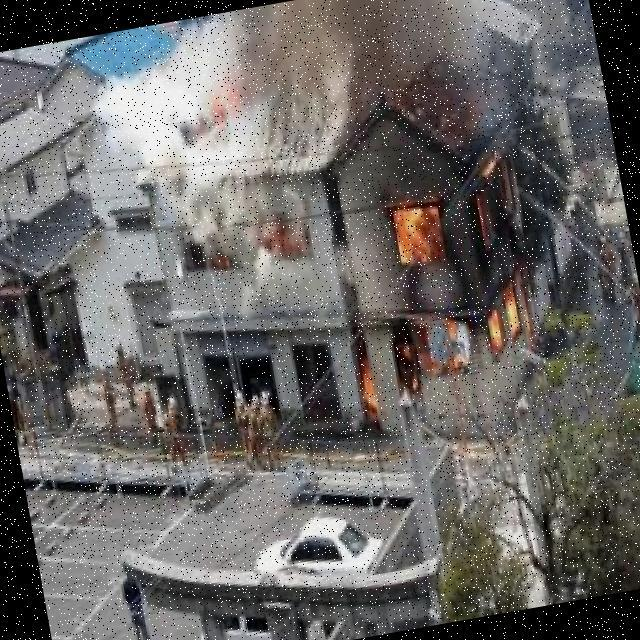Fire: (315, 140, 579, 428)
